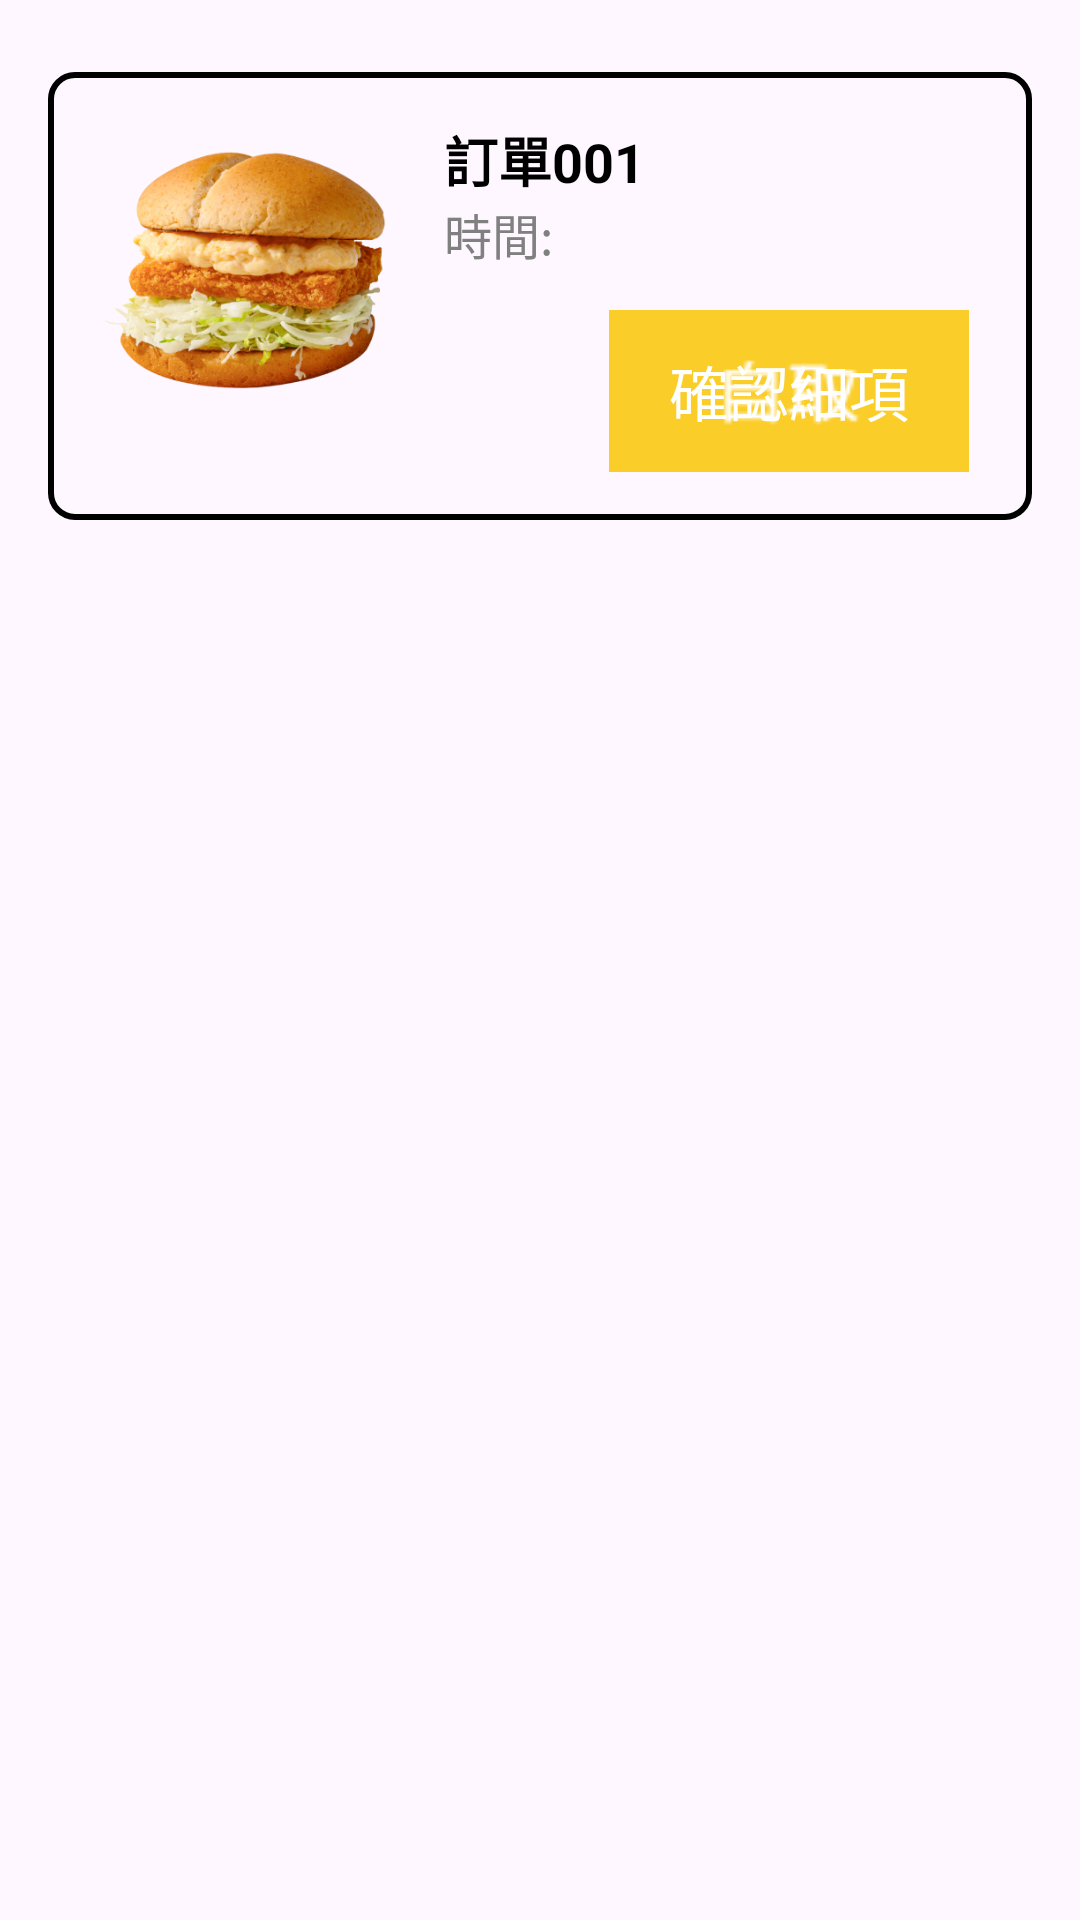

Named icons in this screenshot (1080 x 1920) and their bounding boxes, (x1, y1, x2, y2):
burger: (106, 152, 385, 389)
